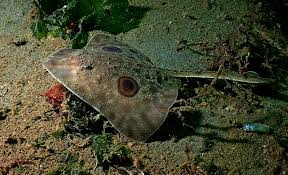Big Skate: (35, 14, 288, 165)
